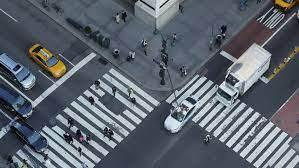crosswalk: (6, 70, 158, 167), (166, 71, 299, 168)
